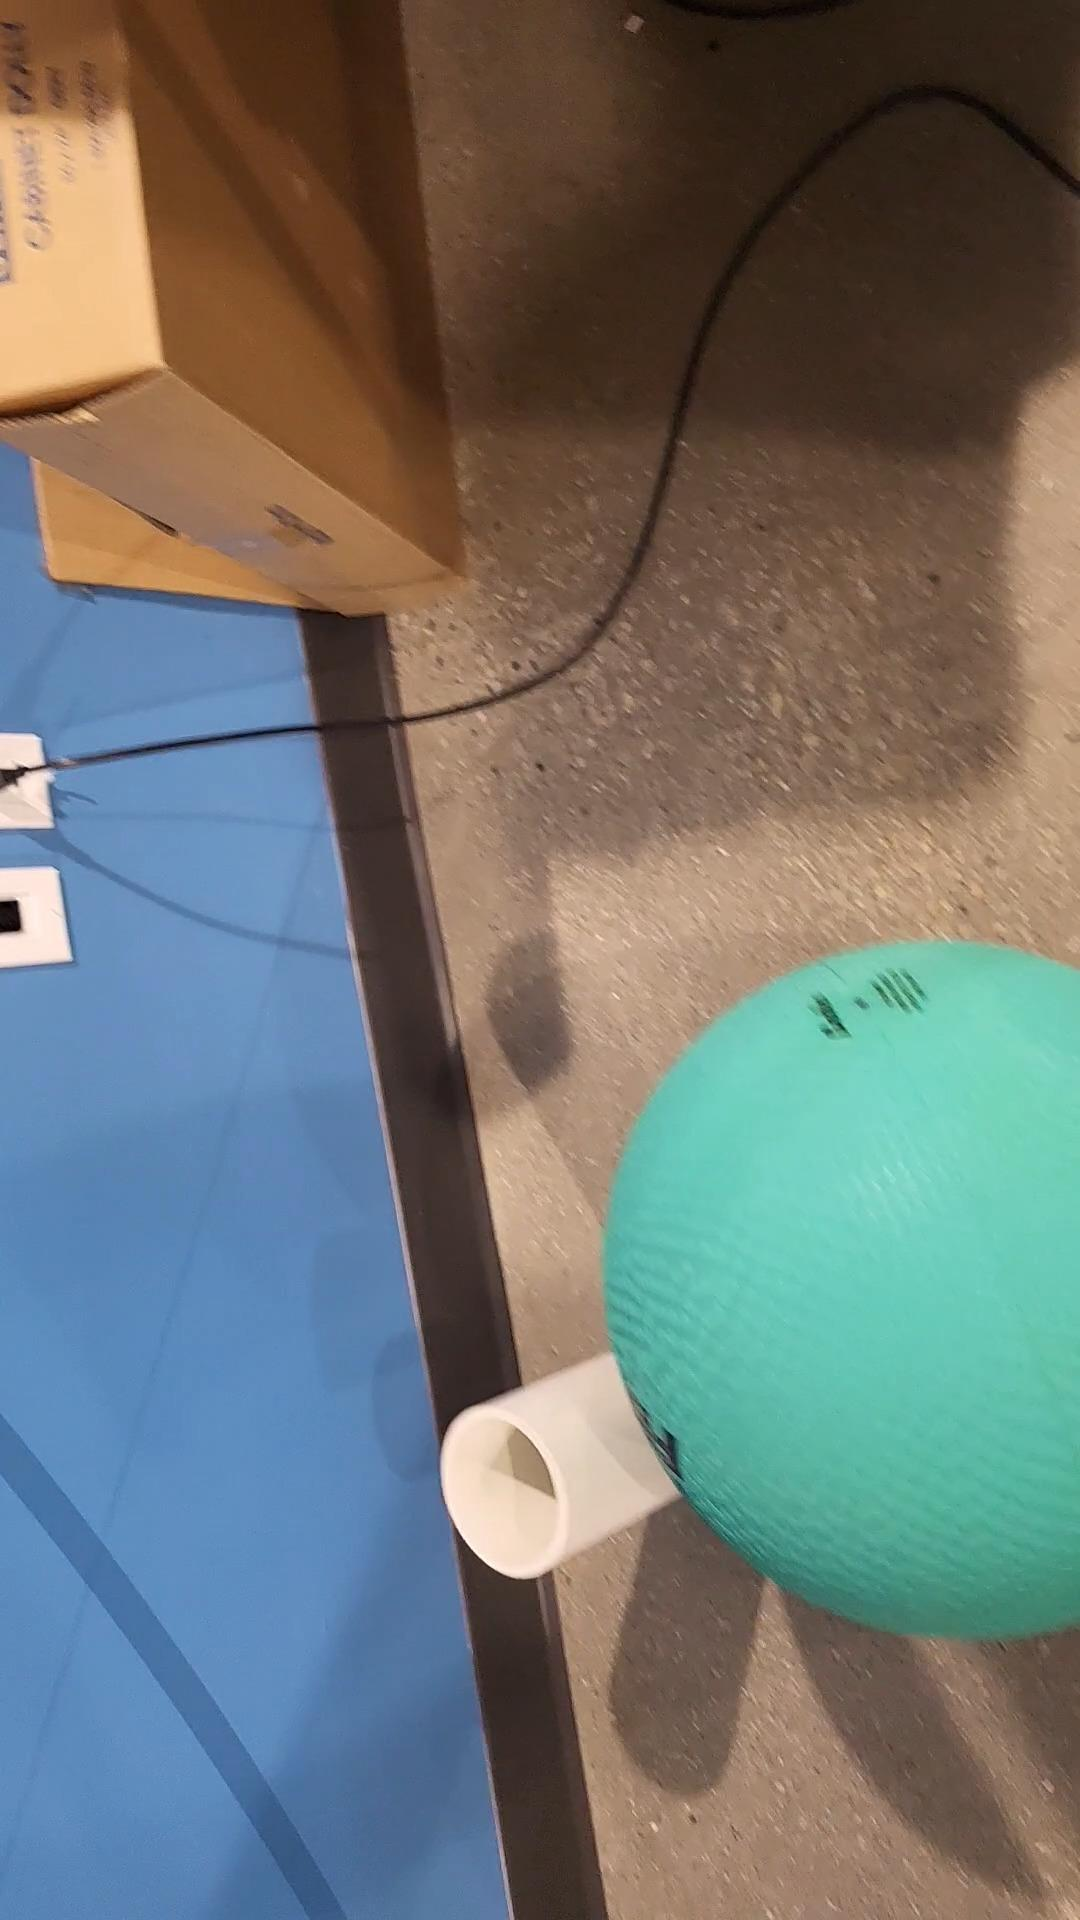algae: (613, 943, 1080, 1635)
coral: (440, 1344, 667, 1593)
